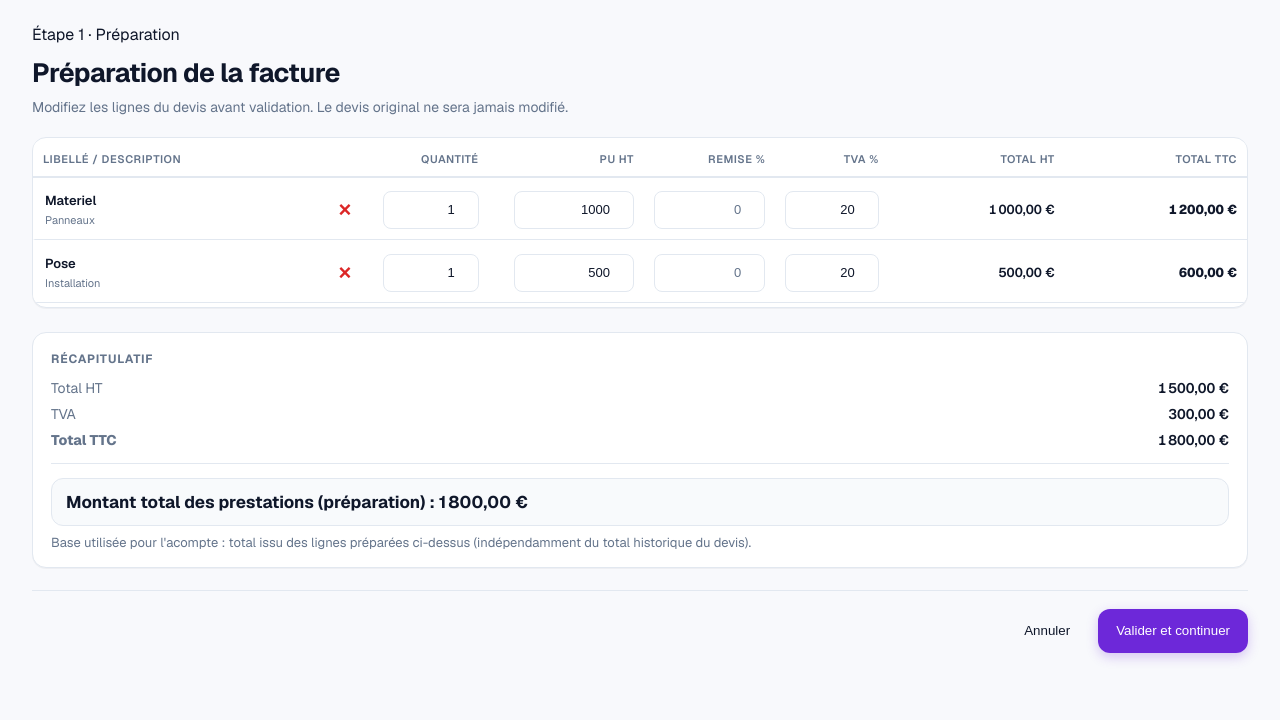
Test case: InvoiceCreatePage — contexte client / lead / libre › preparation depuis devis verrouille : la croix supprime quand meme la ligne locale
Expected: the text "Materiel" is shown, [45,192,96,209]
Expected: the text "Pose" is shown, [45,255,76,272]
Click the button named "Supprimer la ligne".
click(345, 210)  # box [327,192,363,228]
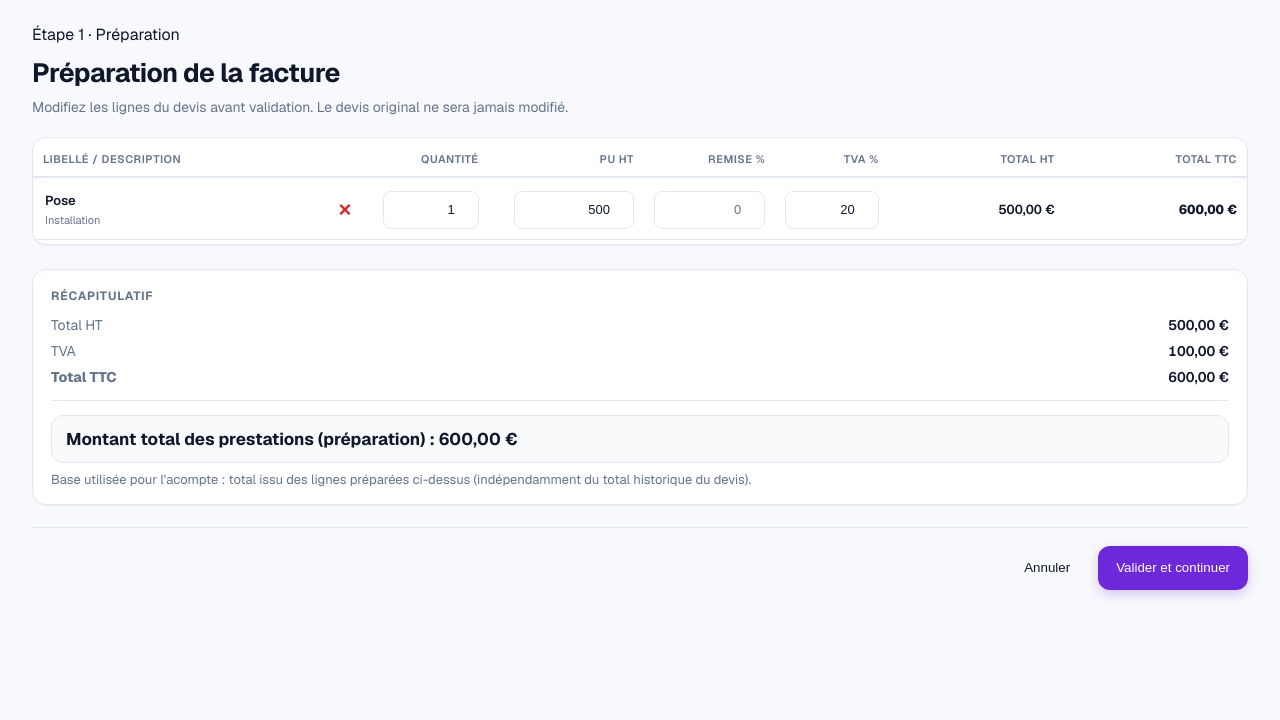
Expected: the text "Pose" is shown, [45,192,76,209]
Now the text "Materiel" is gone
